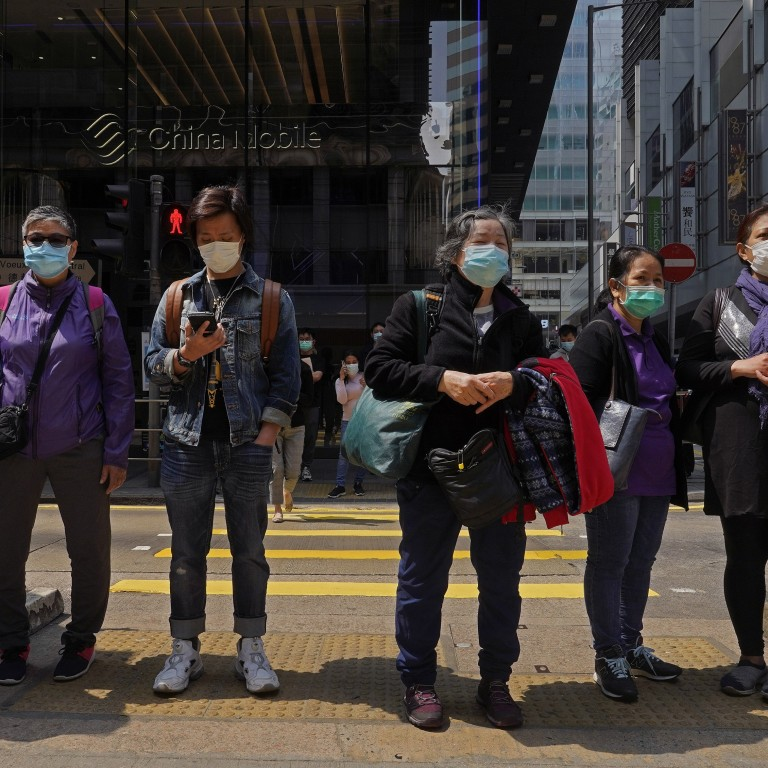with_mask: (188, 213, 243, 270), (462, 228, 509, 284), (25, 230, 70, 278), (622, 270, 668, 313)
